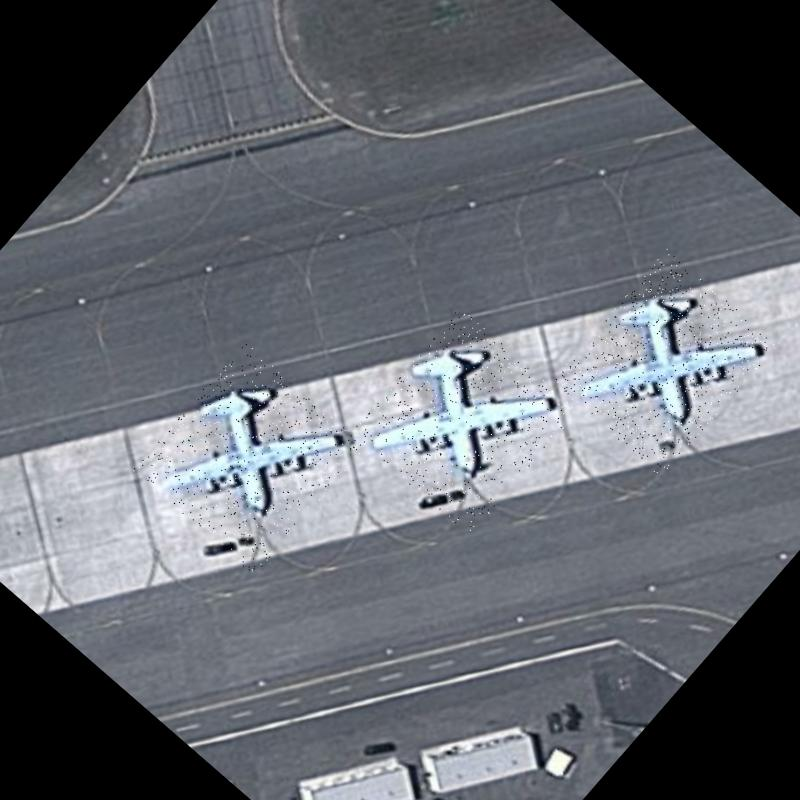A2: (132, 342, 366, 576), (350, 307, 579, 537), (550, 249, 778, 479)
